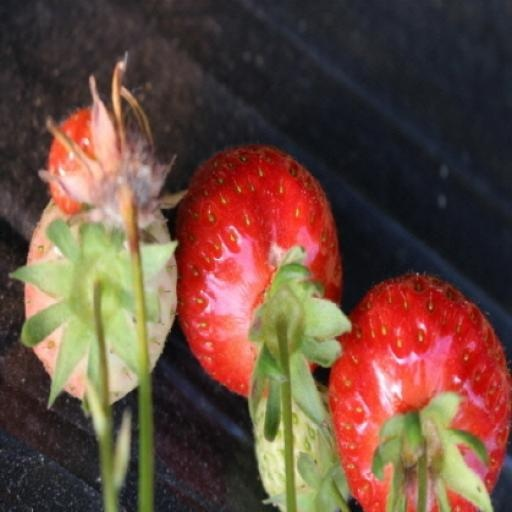Gray Mold: (38, 263, 188, 450)
